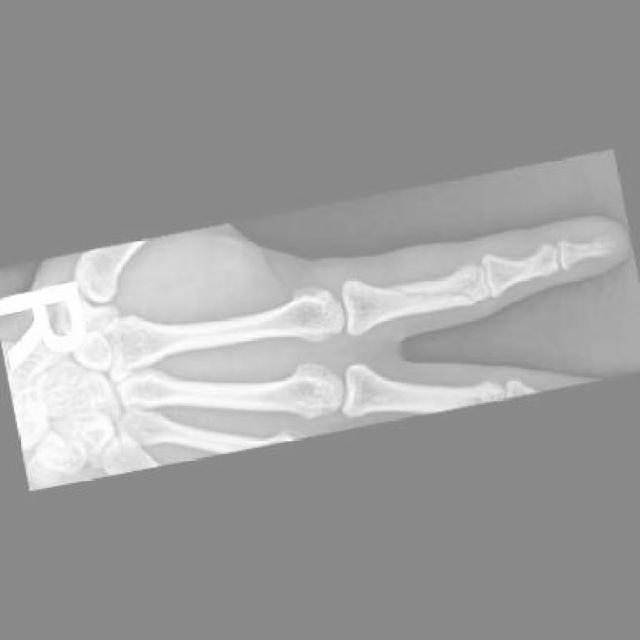bone: (385, 266, 476, 319), (509, 251, 543, 282)
